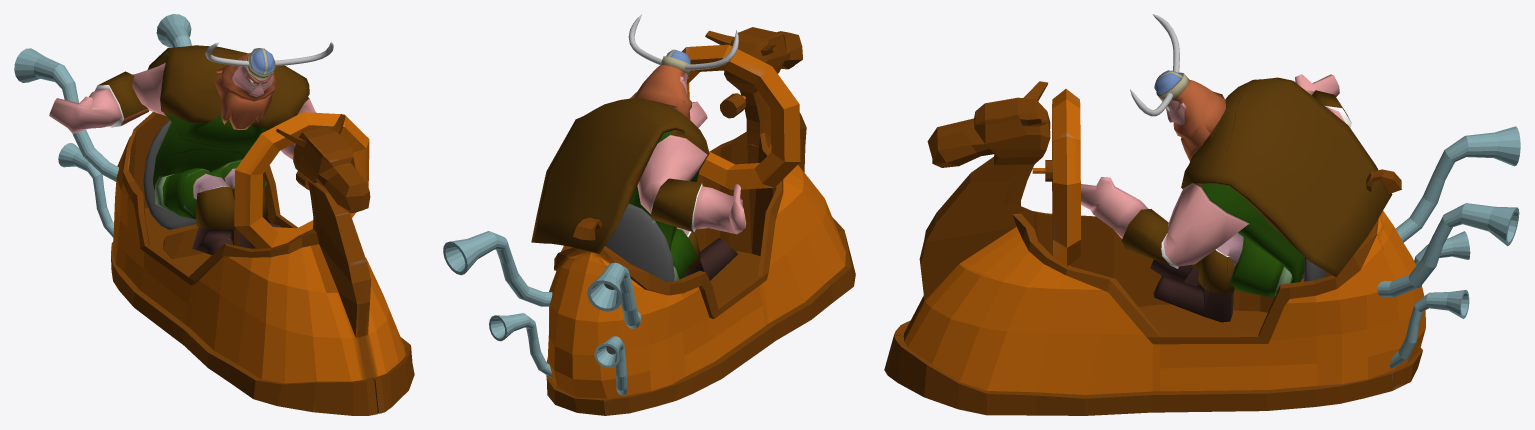
Rendered from vikingoLanzamiento_000521.obj.
The picture shows the model from 3 angles, left to right: view 1: azimuth 30°, elevation 25°; view 2: azimuth 150°, elevation 25°; view 3: azimuth 270°, elevation 25°; orthographic projection. The views are drawn at different scales.
Visible parts, largest first — view 1: kartVikingo, Vikingo; view 2: kartVikingo, Vikingo; view 3: kartVikingo, Vikingo.
Boxes of the visible parts, x1,y1,x2,y2 form: kartVikingo: (14, 14, 414, 415); Vikingo: (49, 41, 333, 254); kartVikingo: (443, 27, 855, 415); Vikingo: (531, 14, 746, 281); kartVikingo: (884, 81, 1520, 415); Vikingo: (1081, 14, 1392, 322).
Bounding box in the file's own units: 4.62 × 6.01 × 10.31.
